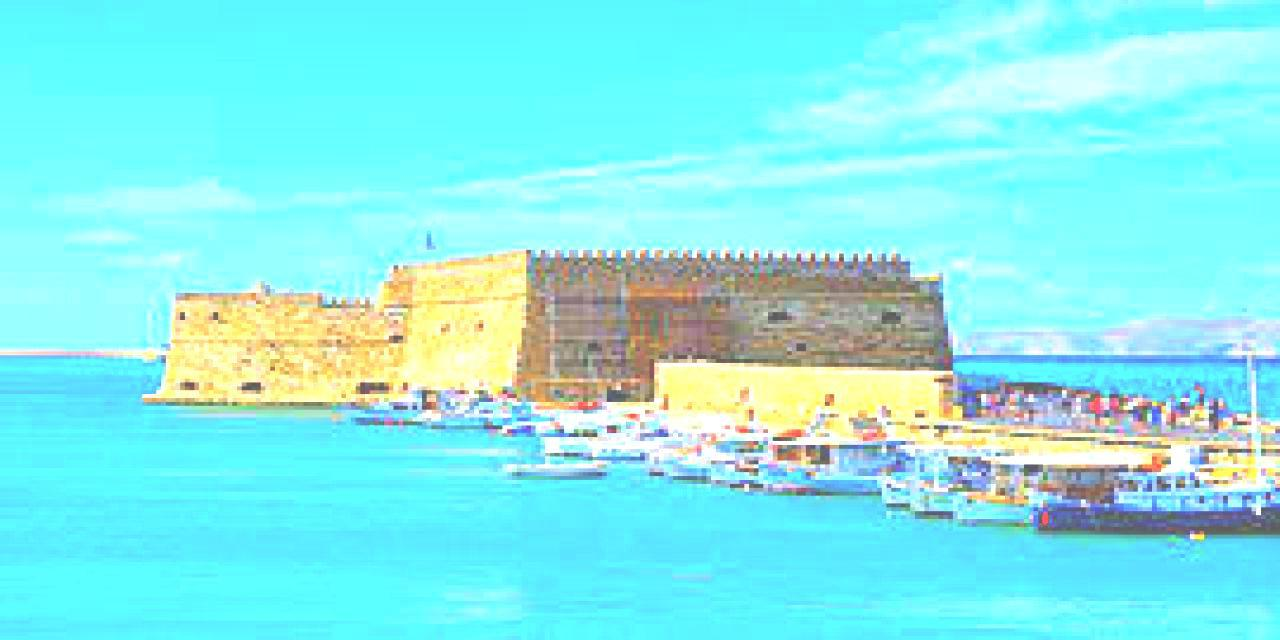Kules: (143, 223, 955, 435)
